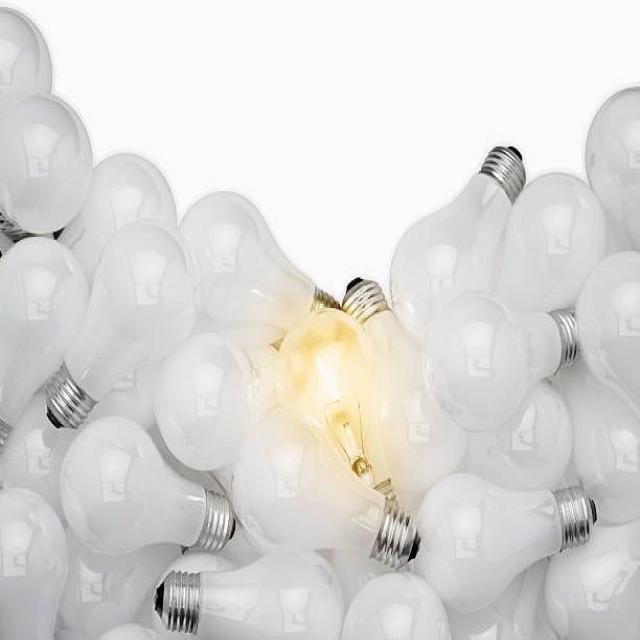electronic: (0, 4, 638, 637), (58, 412, 234, 558), (0, 92, 93, 234)
